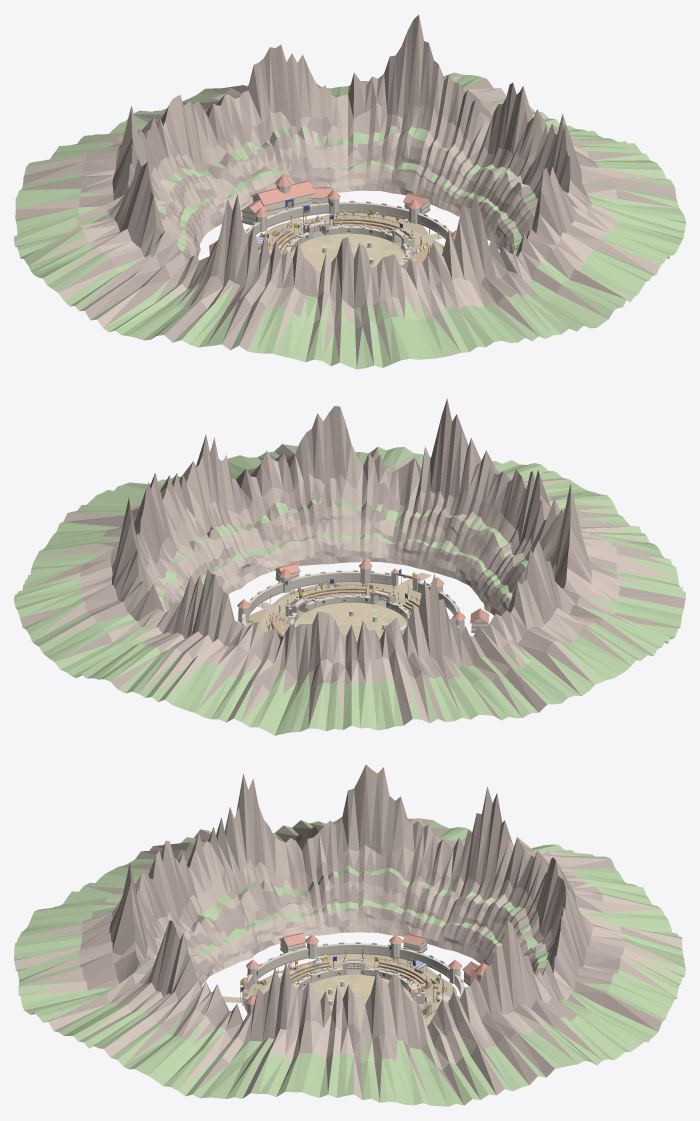
File: map_guild_grounds.glb
The picture shows the model from 3 angles, top to bottom: view 1: azimuth 30°, elevation 25°; view 2: azimuth 150°, elevation 25°; view 3: azimuth 270°, elevation 25°; orthographic projection.
Parts seen in each view (by area): view 1: Z_guild_grounds_penhascos, Z_guild_grounds_det_obj_0_-1, Z_guild_grounds_det_obj_0_-2, Z_guild_grounds_chao_arena, Z_guild_grounds_det_obj_-1_-1, Z_guild_grounds_chao_patio, Z_guild_grounds_det_obj_0_0, Z_guild_grounds_det_obj_-1_-2, Z_guild_grounds_det_chao_0_-1, Z_guild_grounds_det_obj_1_-1; view 2: Z_guild_grounds_penhascos, Z_guild_grounds_det_obj_0_0, Z_guild_grounds_chao_arena, Z_guild_grounds_chao_patio, Z_guild_grounds_det_obj_-1_0, Z_guild_grounds_det_obj_0_-1, Z_guild_grounds_det_chao_-1_0, Z_guild_grounds_det_obj_1_0; view 3: Z_guild_grounds_penhascos, Z_guild_grounds_det_obj_-1_-1, Z_guild_grounds_det_obj_-1_0, Z_guild_grounds_chao_patio, Z_guild_grounds_det_chao_-1_0, Z_guild_grounds_det_obj_-2_0, Z_guild_grounds_chao_arena, Z_guild_grounds_det_obj_-2_-1.
Part boxes in pixels (x1=…): Z_guild_grounds_penhascos: x1=14, y1=15, x2=685, y2=369; Z_guild_grounds_det_obj_0_-1: x1=293, y1=190, x2=430, y2=247; Z_guild_grounds_det_obj_0_-2: x1=251, y1=174, x2=330, y2=218; Z_guild_grounds_chao_arena: x1=291, y1=233, x2=404, y2=272; Z_guild_grounds_det_obj_-1_-1: x1=245, y1=208, x2=327, y2=256; Z_guild_grounds_chao_patio: x1=257, y1=212, x2=444, y2=269; Z_guild_grounds_det_obj_0_0: x1=369, y1=229, x2=456, y2=268; Z_guild_grounds_det_obj_-1_-2: x1=240, y1=193, x2=294, y2=226; Z_guild_grounds_det_chao_0_-1: x1=289, y1=218, x2=442, y2=257; Z_guild_grounds_det_obj_1_-1: x1=403, y1=192, x2=443, y2=234; Z_guild_grounds_penhascos: x1=14, y1=398, x2=685, y2=735; Z_guild_grounds_det_obj_0_0: x1=270, y1=559, x2=393, y2=616; Z_guild_grounds_chao_arena: x1=289, y1=602, x2=404, y2=640; Z_guild_grounds_chao_patio: x1=240, y1=582, x2=421, y2=630; Z_guild_grounds_det_obj_-1_0: x1=372, y1=577, x2=465, y2=634; Z_guild_grounds_det_obj_0_-1: x1=237, y1=599, x2=298, y2=640; Z_guild_grounds_det_chao_-1_0: x1=260, y1=588, x2=420, y2=633; Z_guild_grounds_det_obj_1_0: x1=257, y1=563, x2=300, y2=603; Z_guild_grounds_penhascos: x1=14, y1=764, x2=685, y2=1106; Z_guild_grounds_det_obj_-1_-1: x1=359, y1=934, x2=461, y2=995; Z_guild_grounds_det_obj_-1_0: x1=246, y1=934, x2=362, y2=994; Z_guild_grounds_chao_patio: x1=247, y1=954, x2=456, y2=1018; Z_guild_grounds_det_chao_-1_0: x1=262, y1=959, x2=445, y2=1023; Z_guild_grounds_det_obj_-2_0: x1=279, y1=932, x2=353, y2=955; Z_guild_grounds_chao_arena: x1=301, y1=974, x2=410, y2=1012; Z_guild_grounds_det_obj_-2_-1: x1=354, y1=933, x2=428, y2=955.
Size of the model in its own units: 235 by 58.3 by 234.
